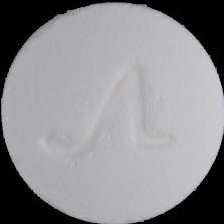67046-742: (0, 0, 224, 224)
